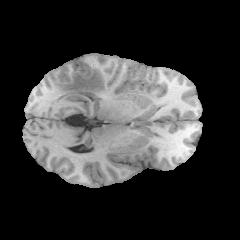glioma: (53, 63, 105, 100)
